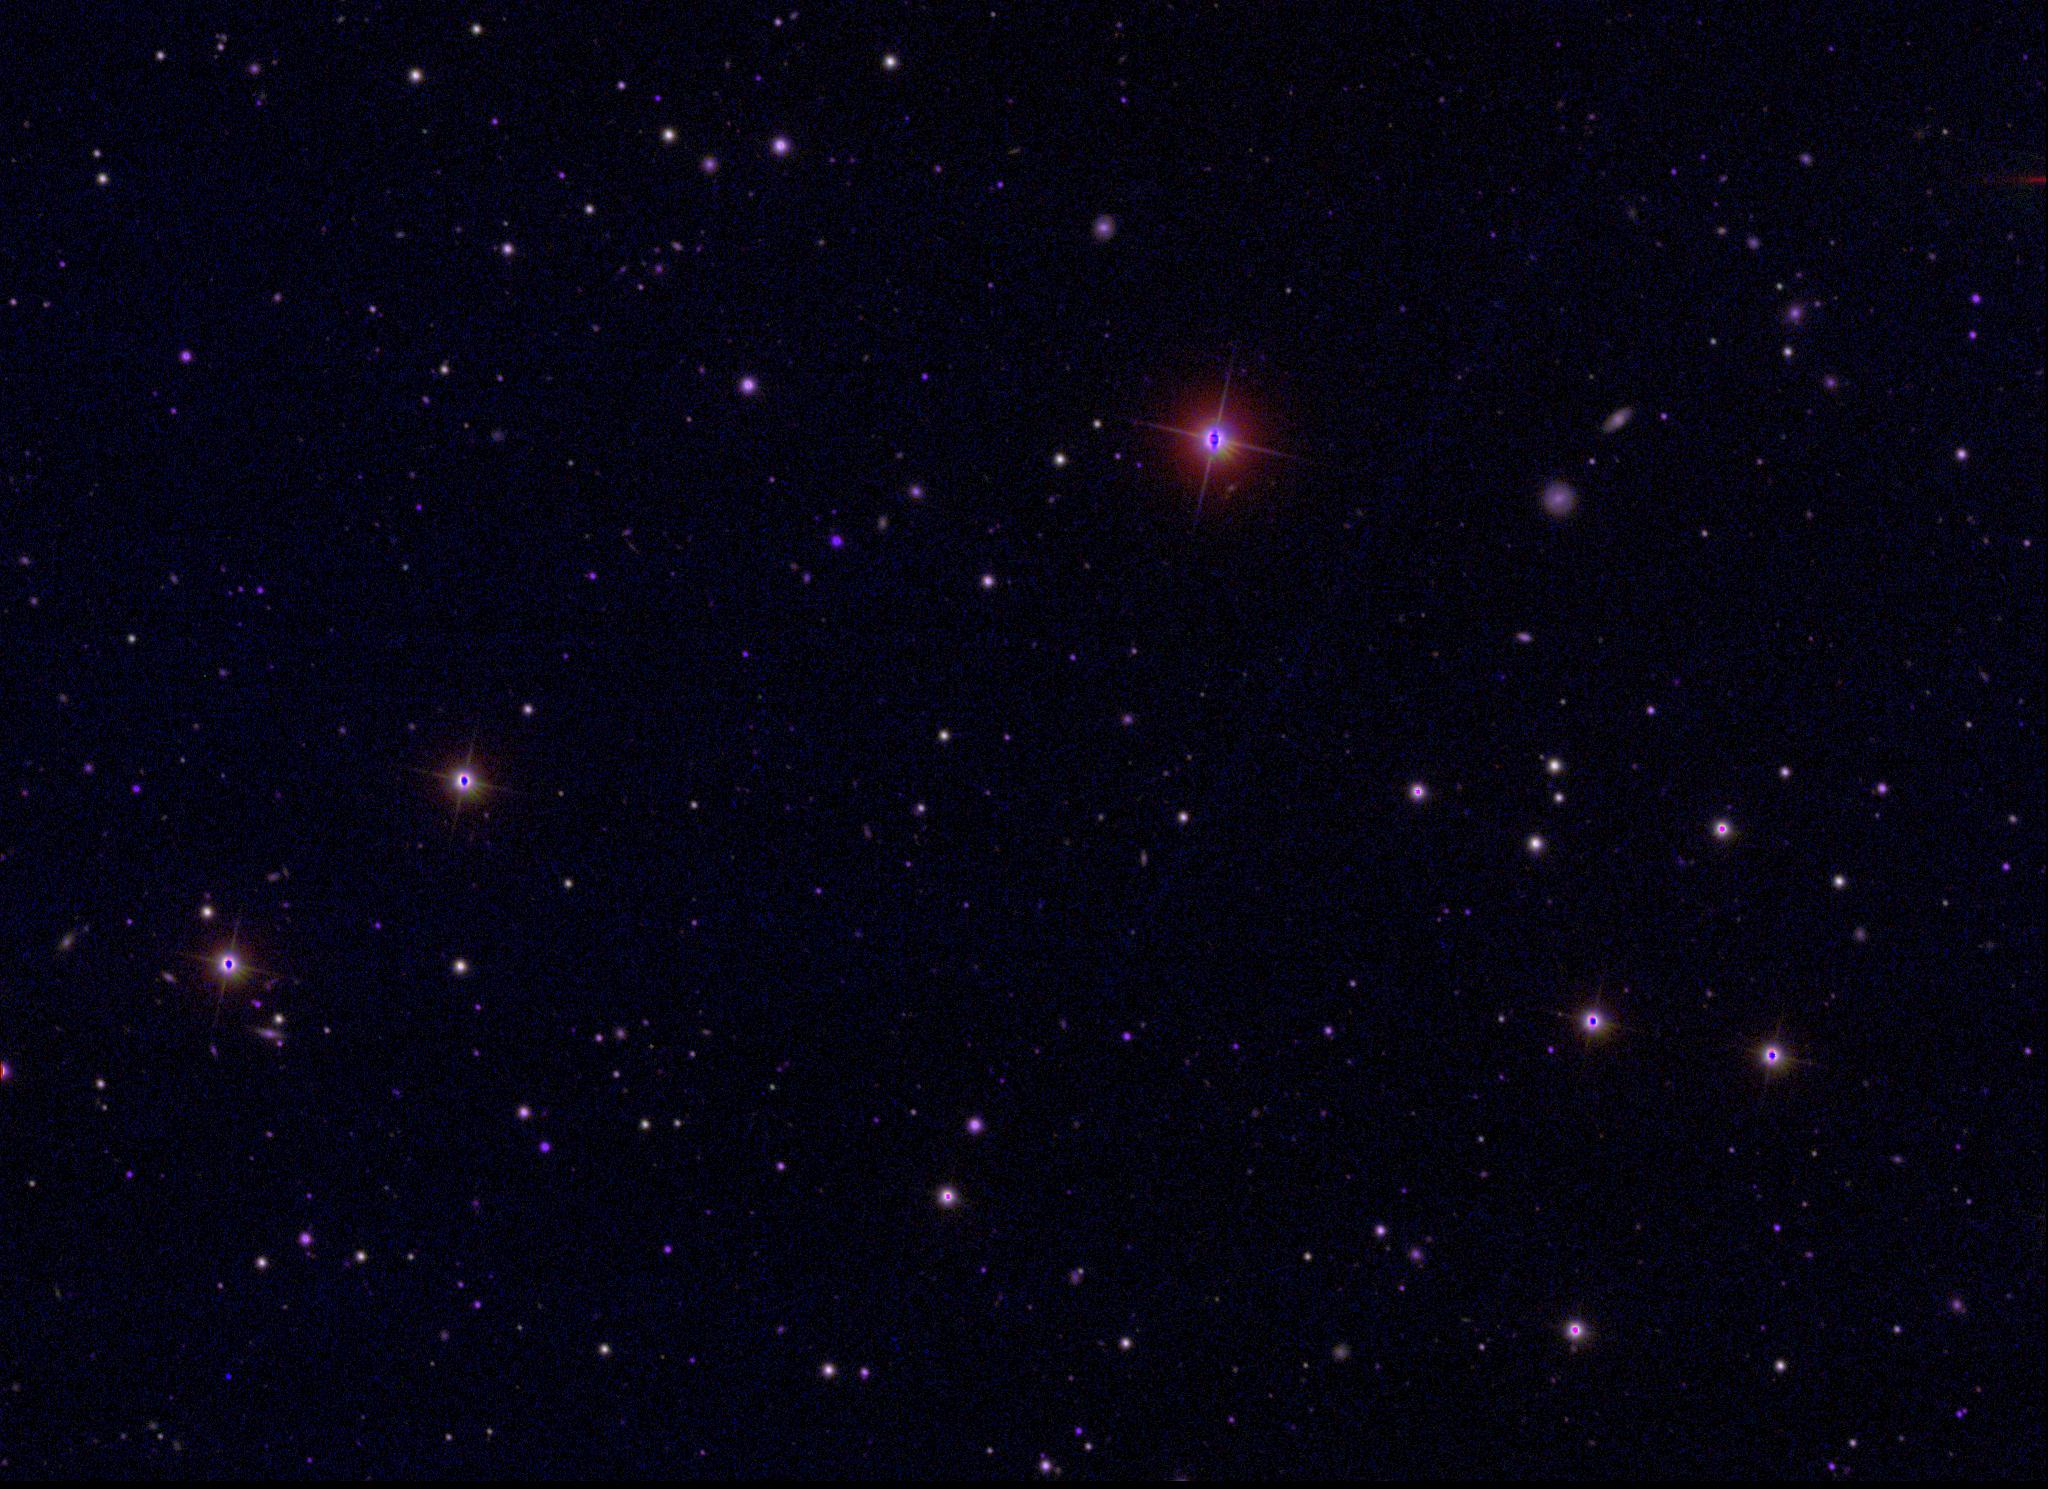L: (223, 1370, 235, 1382)
